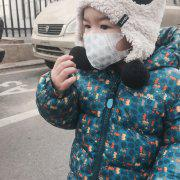OK: (83, 17, 136, 70)
